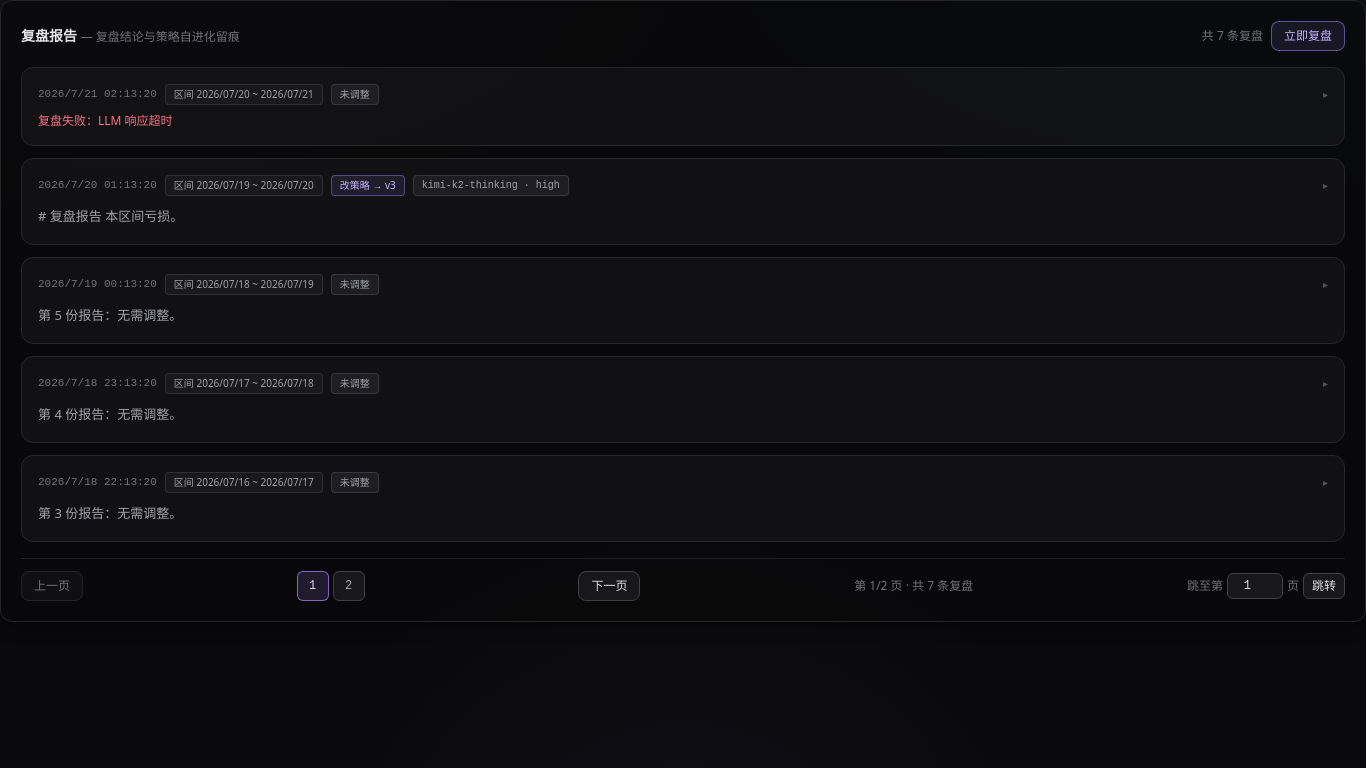
Test case: ReviewPanel(复盘报告) › 工具链降级：roundId 空串的老报告展开后灰字提示，且不拉取 getRound
This screenshot has width=1366, height=768.
Step 1. Click the text "第 5 份报告：无需调整。" → (110, 315), box [38, 306, 182, 324]
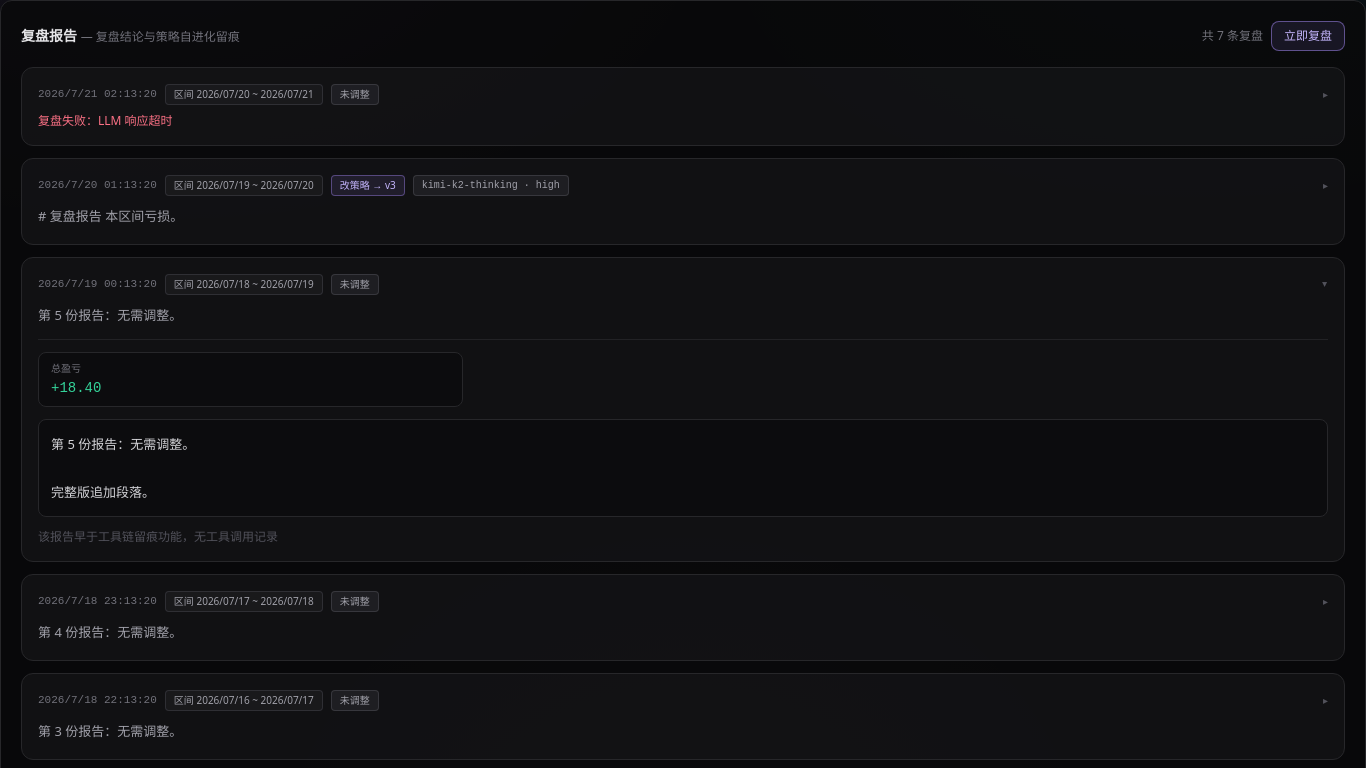
Check: the text "该报告早于工具链留痕功能，无工具调用记录" is shown, box [38, 528, 278, 545]
